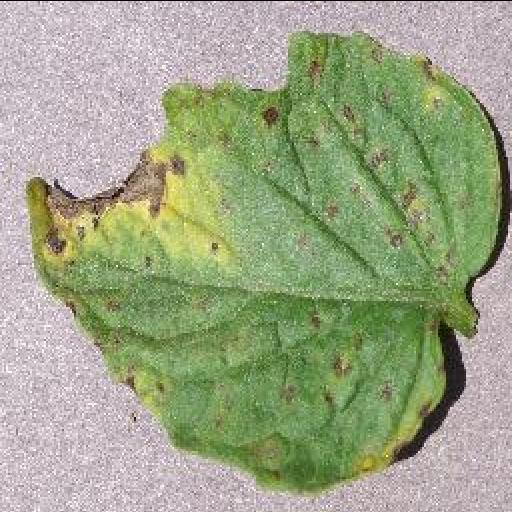disease_tomato: (21, 29, 507, 497)
